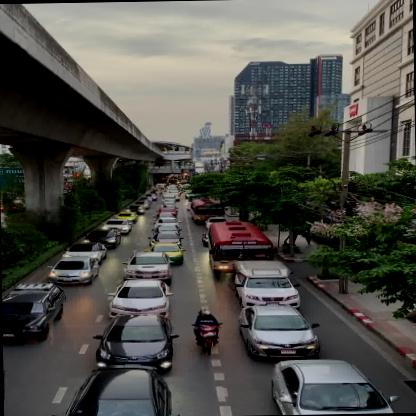bus: (208, 219, 276, 282)
car: (271, 358, 405, 415), (42, 361, 181, 415), (92, 313, 178, 371), (239, 306, 318, 361), (2, 282, 66, 342), (230, 258, 295, 308), (106, 278, 172, 316), (46, 254, 103, 285), (118, 250, 175, 280), (61, 241, 106, 260), (146, 244, 184, 266), (83, 228, 123, 247)
motorcycle: (189, 306, 224, 356)
